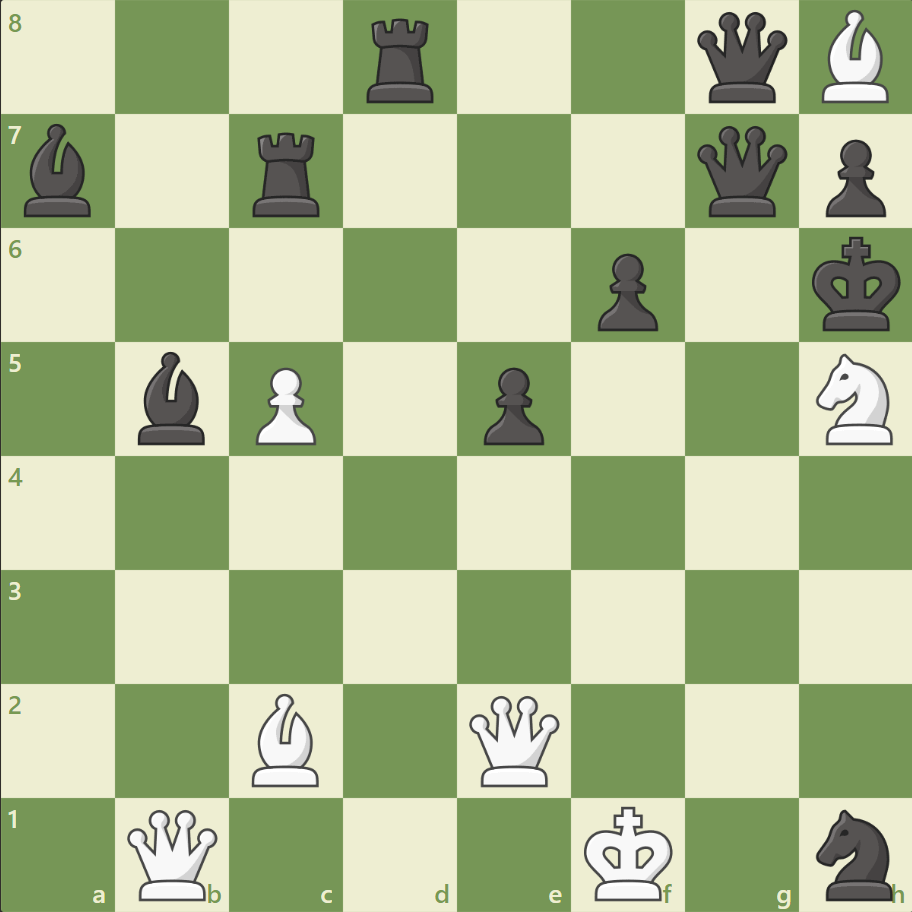B: (812, 6, 896, 109), (244, 687, 328, 790)
K: (579, 798, 679, 906)
N: (806, 348, 903, 450)
P: (247, 359, 322, 450)
Q: (464, 690, 563, 789), (124, 804, 223, 903)
b: (17, 120, 101, 222), (131, 347, 215, 449)
k: (806, 231, 906, 339)
n: (806, 802, 903, 904)
p: (474, 359, 549, 450), (815, 132, 889, 223), (588, 246, 662, 337)
q: (691, 122, 790, 222), (691, 9, 790, 108)
r: (246, 125, 329, 222), (360, 12, 442, 109)
